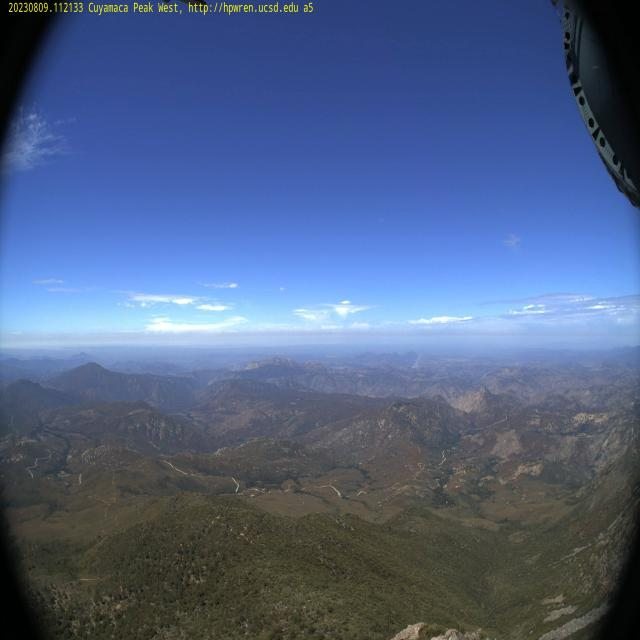smoke: (411, 351, 423, 371)
